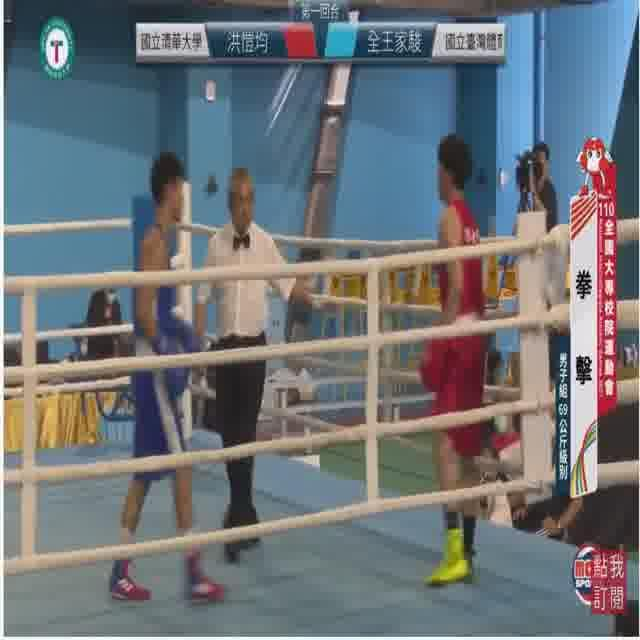blue-player: (106, 152, 229, 606)
red-player: (416, 132, 489, 589)
referee: (186, 163, 319, 566)
